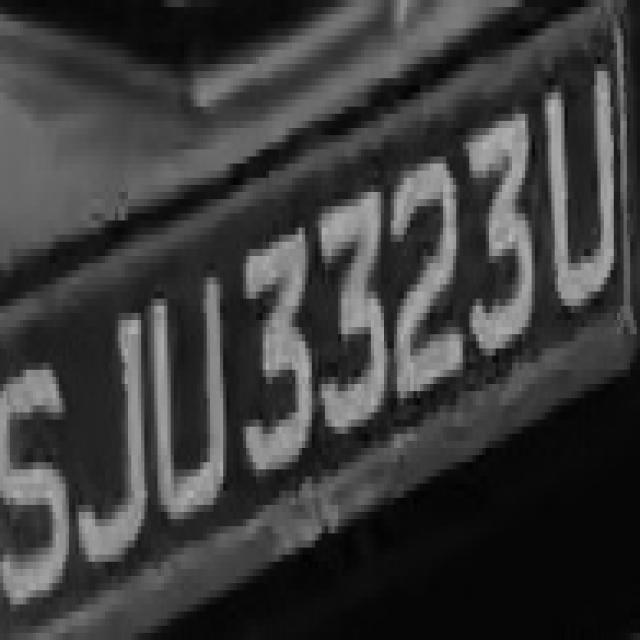2: (380, 164, 472, 412)
3: (226, 220, 322, 498), (446, 121, 535, 384), (306, 185, 388, 462)
J: (76, 313, 158, 604)
U: (138, 263, 233, 555), (535, 64, 624, 341)
